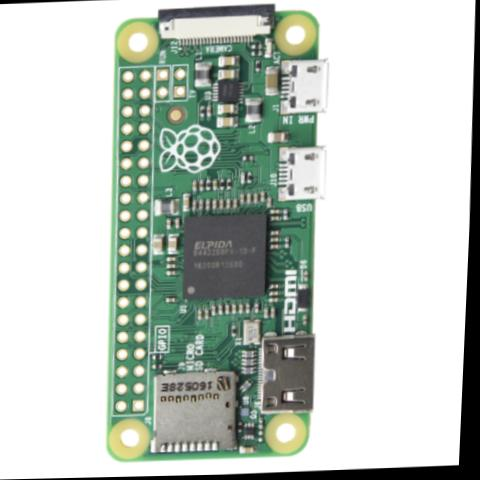Raspberry-Pi-Zero: (99, 2, 338, 464)
